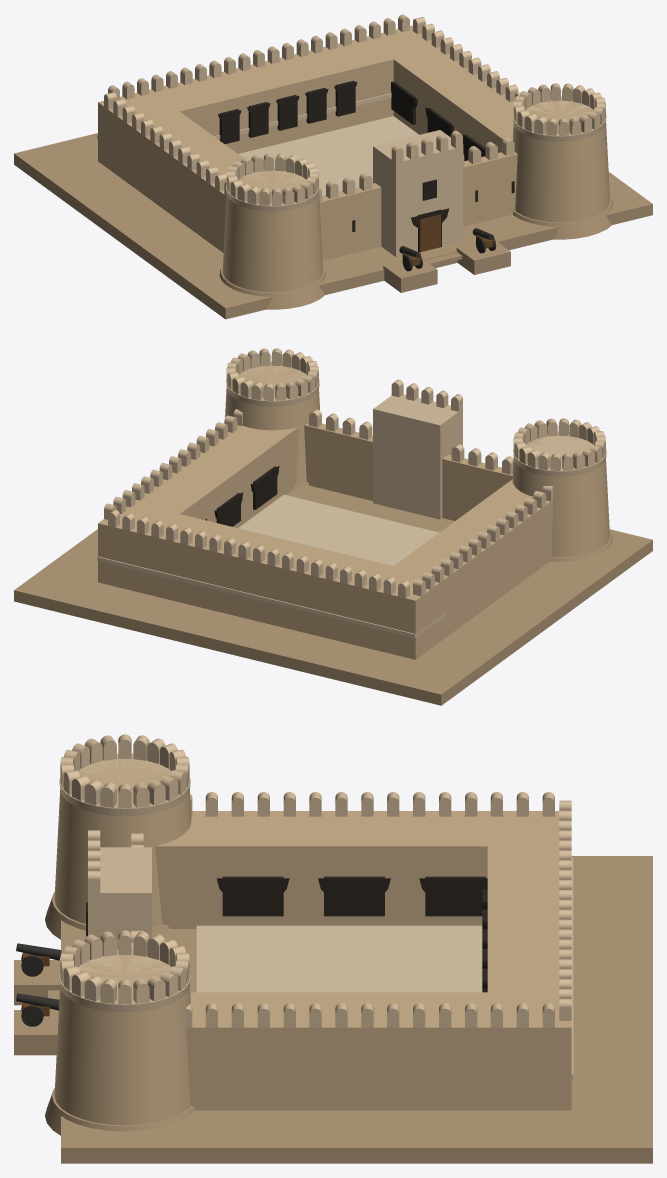
The model's file is masfout-museum.glb.
3 views of the same model, one above another, from view 1: azimuth 30°, elevation 25°; view 2: azimuth 150°, elevation 25°; view 3: azimuth 270°, elevation 25° (orthographic). The views are drawn at different scales.
Parts seen in each view (by area): view 1: plinth, side_range (×2), tower_body (×2), back_building, gate_block, front_wall (×2), courtyard, arch_opening (×5), cannon_platform (×2), part_107, part_106, part_165 (+4 smaller); view 2: plinth, side_range (×2), back_building, tower_body (×2), gate_block, courtyard, front_wall (×2), string_course, part_107, part_166, side_opening; view 3: side_range (×2), plinth, tower_body (×2), courtyard, back_building, side_opening (×3), gate_block, cannon_platform (×2), part_166, part_107, part_165, part_102 (+4 smaller).
Boxes of the visible parts, box(x1,y1,x2,y2) form: plinth: box(14, 133, 652, 319); side_range (×2): box(98, 25, 514, 252); tower_body (×2): box(222, 98, 609, 292); back_building: box(99, 26, 440, 153); gate_block: box(373, 130, 462, 256); front_wall (×2): box(319, 152, 517, 260); courtyard: box(238, 116, 418, 195); arch_opening (×5): box(219, 80, 355, 144); cannon_platform (×2): box(383, 240, 510, 292); part_107: box(226, 166, 319, 211); part_106: box(219, 265, 325, 309); part_165: box(512, 196, 612, 239); plinth: box(14, 485, 652, 705); side_range (×2): box(98, 425, 553, 659); back_building: box(98, 503, 444, 655); tower_body (×2): box(225, 362, 609, 557); gate_block: box(373, 394, 462, 519); courtyard: box(238, 494, 439, 565); front_wall (×2): box(304, 423, 512, 520); string_course: box(97, 556, 446, 638); part_107: box(513, 431, 606, 476); part_166: box(226, 361, 319, 406); side_opening: box(253, 466, 277, 509); side_range (×2): box(155, 811, 571, 1110); plinth: box(61, 856, 652, 1163); tower_body (×2): box(54, 754, 191, 1125); courtyard: box(196, 925, 482, 992); back_building: box(487, 811, 571, 1110); side_opening (×3): box(222, 876, 486, 916); gate_block: box(88, 847, 151, 949); cannon_platform (×2): box(14, 960, 60, 1055); part_166: box(59, 949, 190, 1012); part_107: box(59, 753, 190, 816); part_165: box(45, 1088, 194, 1135); part_102: box(318, 878, 390, 905).
Size of the model in its own units: 28 by 7.45 by 25.9.
